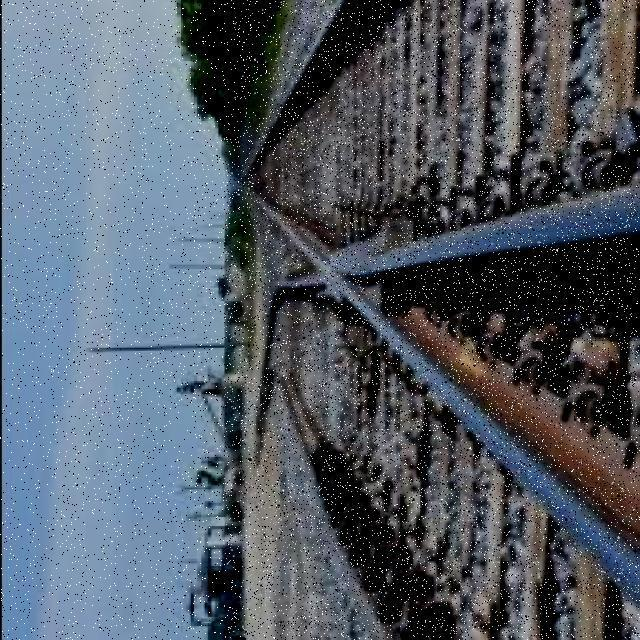rail: (225, 1, 639, 638)
